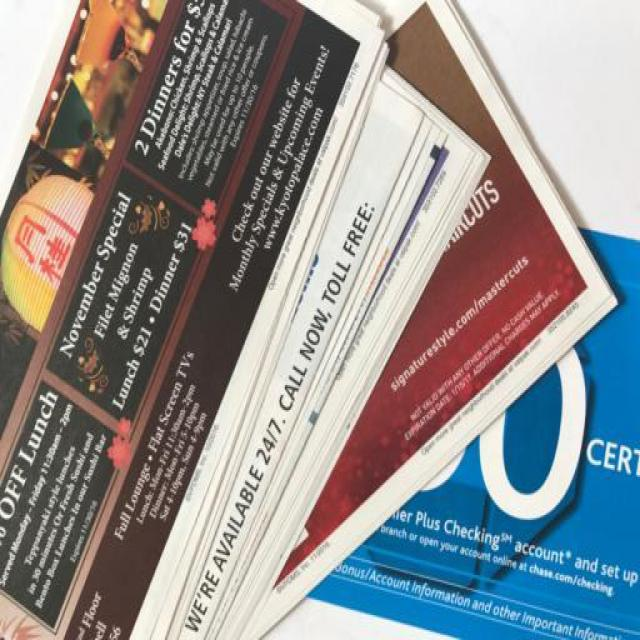paper: (2, 4, 640, 636)
